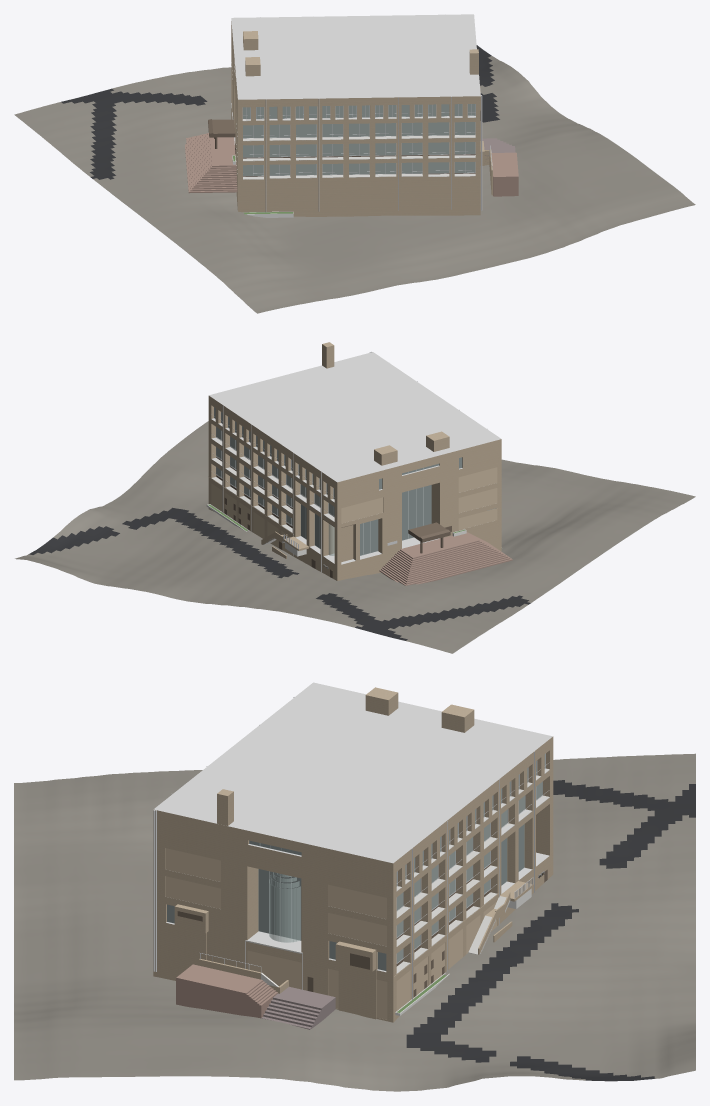
File: library.glb
3 renders of one model, top to bottom at view 1: azimuth 30°, elevation 25°; view 2: azimuth 150°, elevation 25°; view 3: azimuth 270°, elevation 25°, orthographic. The views are drawn at different scales.
Parts seen in each view (by area): view 1: terrain, library_main, footing_main, composite_10_terrace, steps_39_step14; view 2: terrain, library_main, glazing_f2_15, glazing_room_f2_15, steps_39_step14, band_f2_15, band_f2_15.001, band_f2_11, glazing_f2_5, glazing_room_f2_5, band_f2_7; view 3: terrain, library_main, composite_10_terrace, glazing_f0_15.001, glazing_room_f0_15.001, composite_1_pier, band_f0_0, band_f0_16, band_f0_11, band_f0_16.001, band_f0_11.001, composite_3_pier (+5 smaller).
Part boxes in pixels (x1,y1,x2,y2): terrain: [14, 45, 695, 313]; library_main: [231, 14, 480, 212]; footing_main: [293, 209, 480, 216]; composite_10_terrace: [491, 153, 518, 196]; steps_39_step14: [209, 137, 236, 166]; terrain: [15, 421, 695, 653]; library_main: [208, 352, 501, 580]; glazing_f2_15: [402, 485, 431, 540]; glazing_room_f2_15: [402, 485, 431, 540]; steps_39_step14: [400, 532, 479, 558]; band_f2_15: [341, 497, 382, 523]; band_f2_15.001: [458, 467, 497, 492]; band_f2_11: [458, 488, 497, 513]; glazing_f2_5: [360, 519, 378, 555]; glazing_room_f2_5: [360, 519, 377, 555]; band_f2_7: [458, 508, 497, 529]; terrain: [14, 753, 695, 1091]; library_main: [153, 682, 553, 1021]; composite_10_terrace: [176, 964, 260, 1015]; glazing_f0_15.001: [258, 869, 301, 940]; glazing_room_f0_15.001: [259, 869, 300, 940]; composite_1_pier: [338, 964, 376, 1019]; band_f0_0: [247, 950, 301, 989]; band_f0_16: [328, 884, 386, 919]; band_f0_11: [328, 913, 386, 946]; band_f0_16.001: [165, 848, 220, 881]; band_f0_11.001: [165, 876, 220, 908]; composite_3_pier: [179, 927, 206, 973].
Bounding box in the file's own units: 103 × 32.9 × 99.
Materials: 38 (9 with a texture image).
